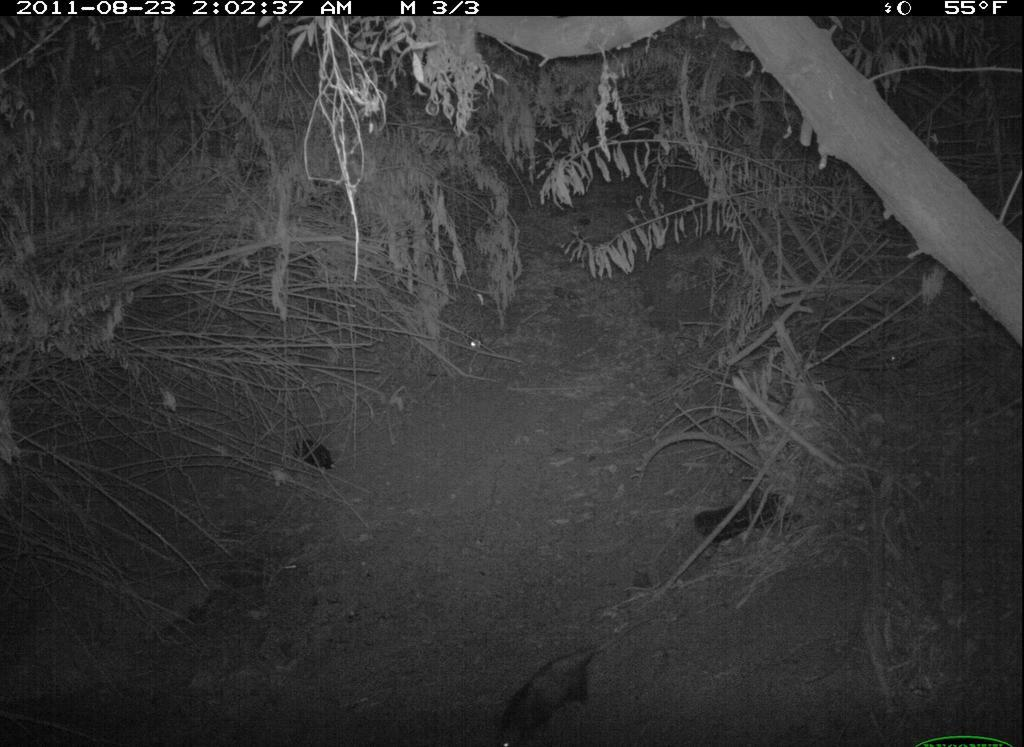opossum: (489, 614, 660, 747)
